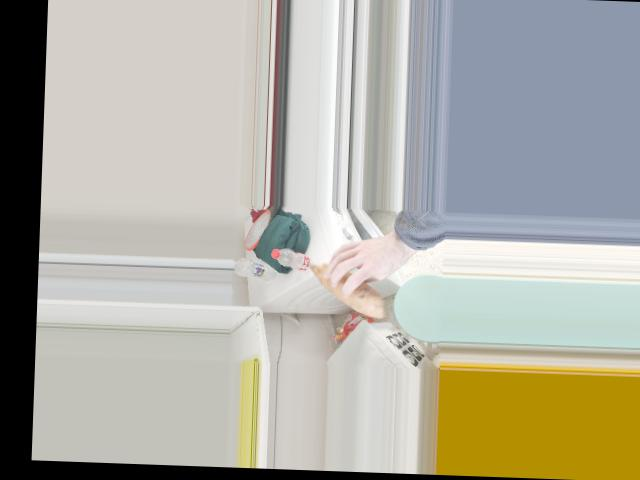sweet_potato: (311, 253, 376, 317)
